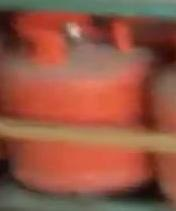cylinder: (1, 0, 176, 211)
